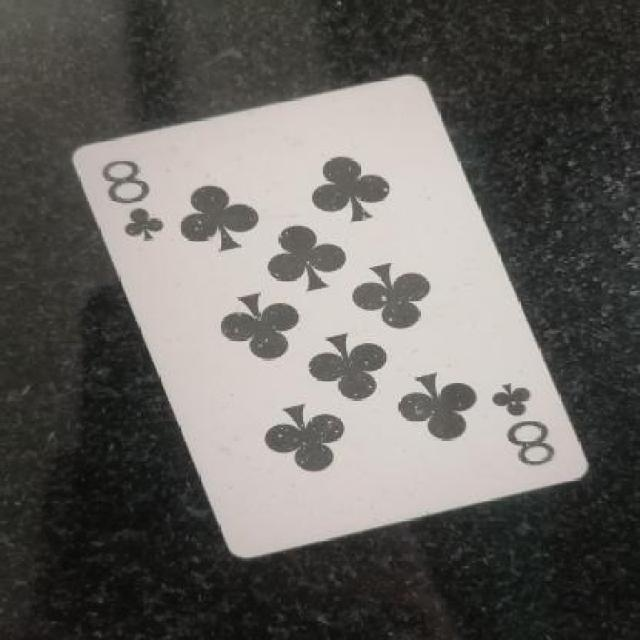8C: (481, 368, 570, 475), (93, 152, 178, 259)
